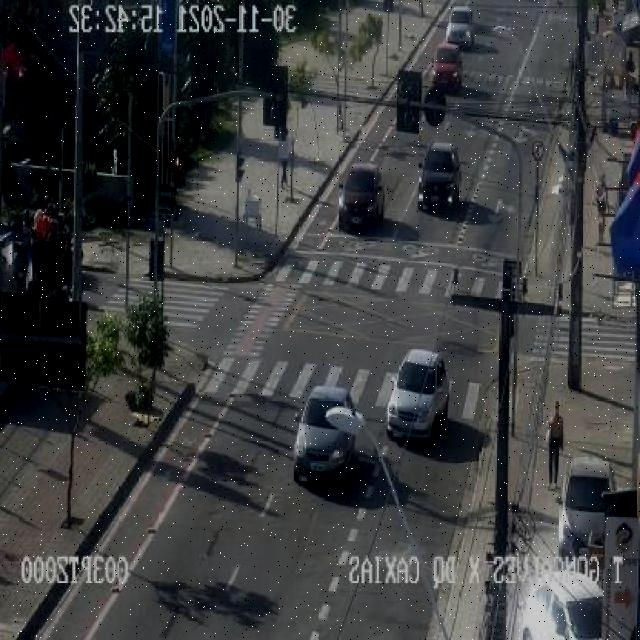Car: (291, 384, 360, 485), (384, 349, 449, 443), (515, 572, 604, 639), (560, 458, 616, 554), (338, 163, 386, 232), (417, 143, 462, 212), (431, 43, 465, 91), (445, 6, 475, 49)
